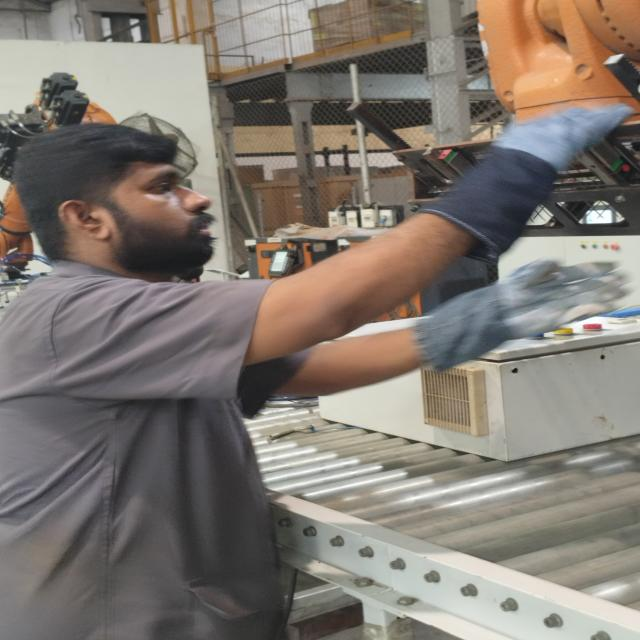Gloves-Detection: (408, 95, 637, 254), (404, 255, 636, 367)
